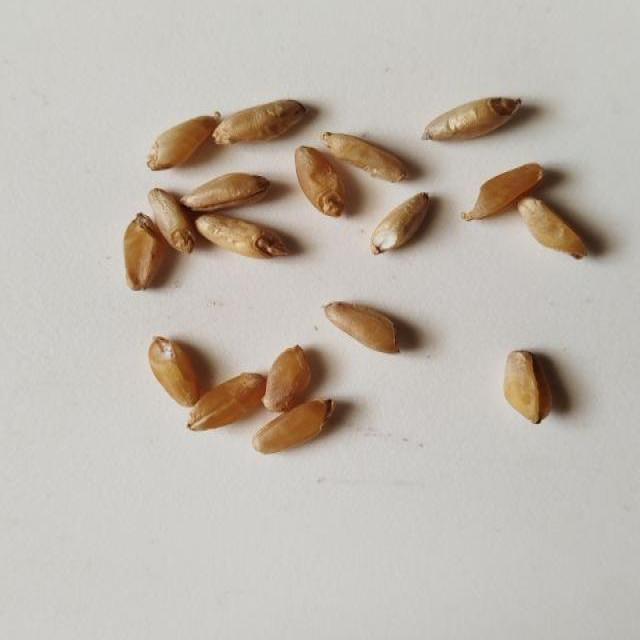wheat_grain: (185, 372, 267, 429), (461, 162, 541, 220), (421, 96, 520, 142), (320, 132, 409, 183), (194, 212, 292, 258), (251, 397, 333, 451), (210, 99, 306, 145), (518, 196, 587, 259), (146, 114, 218, 170), (323, 301, 399, 353), (123, 212, 172, 290), (147, 335, 200, 407), (293, 145, 346, 216), (369, 192, 429, 254), (178, 172, 269, 211), (147, 187, 198, 254), (503, 349, 549, 423), (262, 345, 311, 412)
